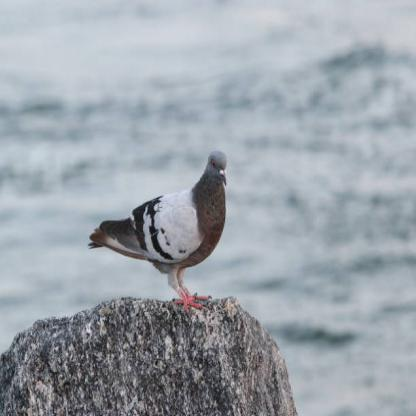Rock Pigeon: (84, 151, 233, 290)
